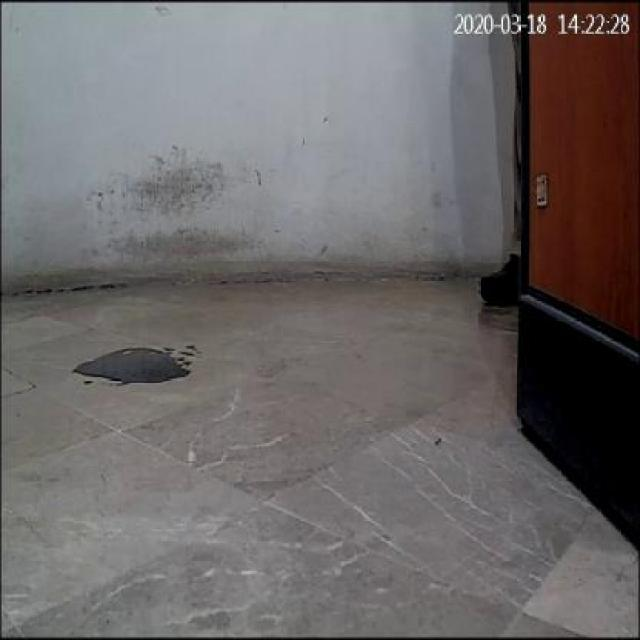spill: (72, 344, 196, 386)
